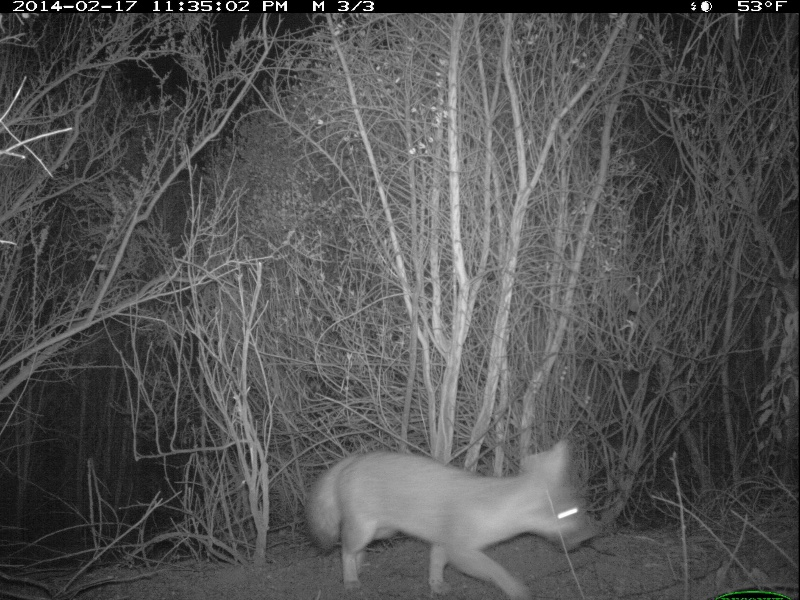fox: (302, 444, 595, 600)
